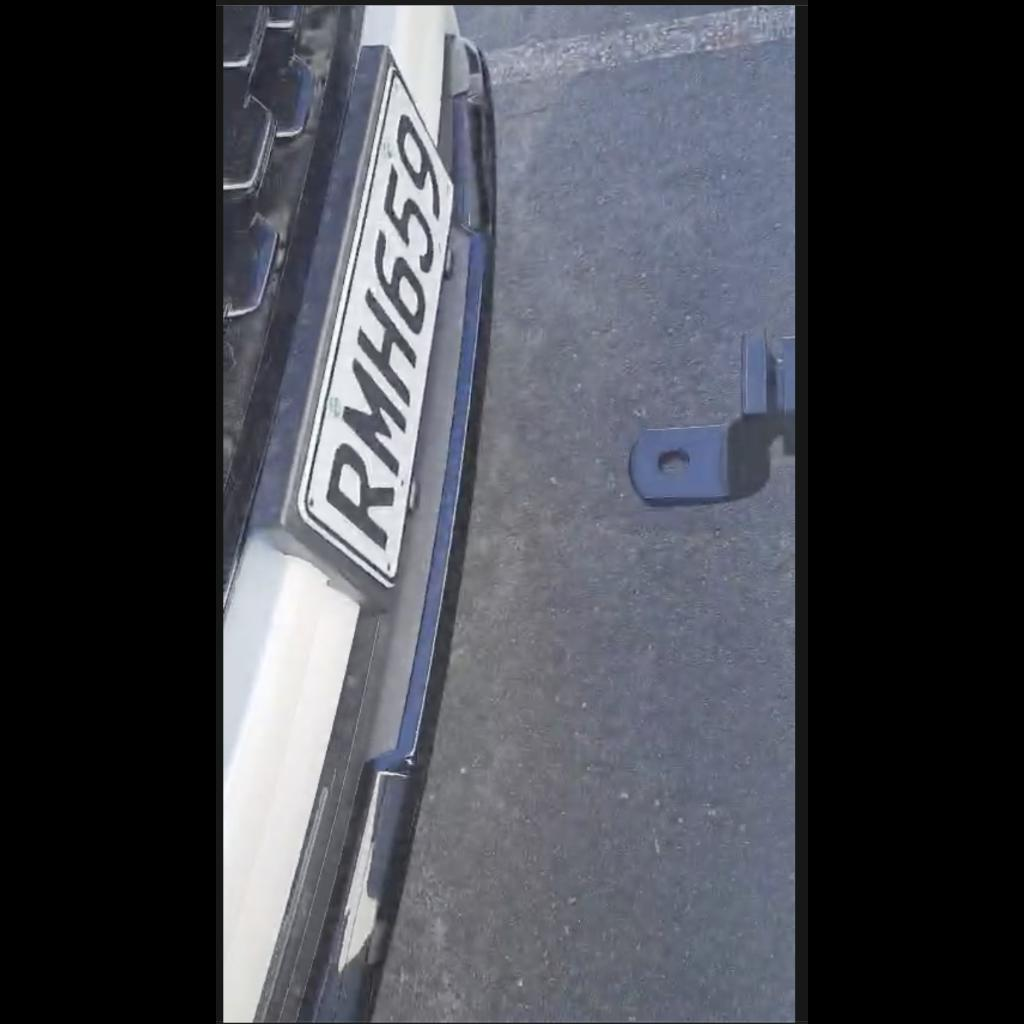Number-Plates: (280, 42, 466, 629)
